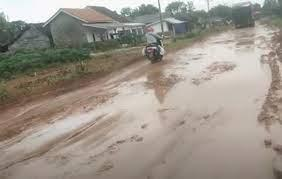Pothole: (9, 91, 282, 179)
